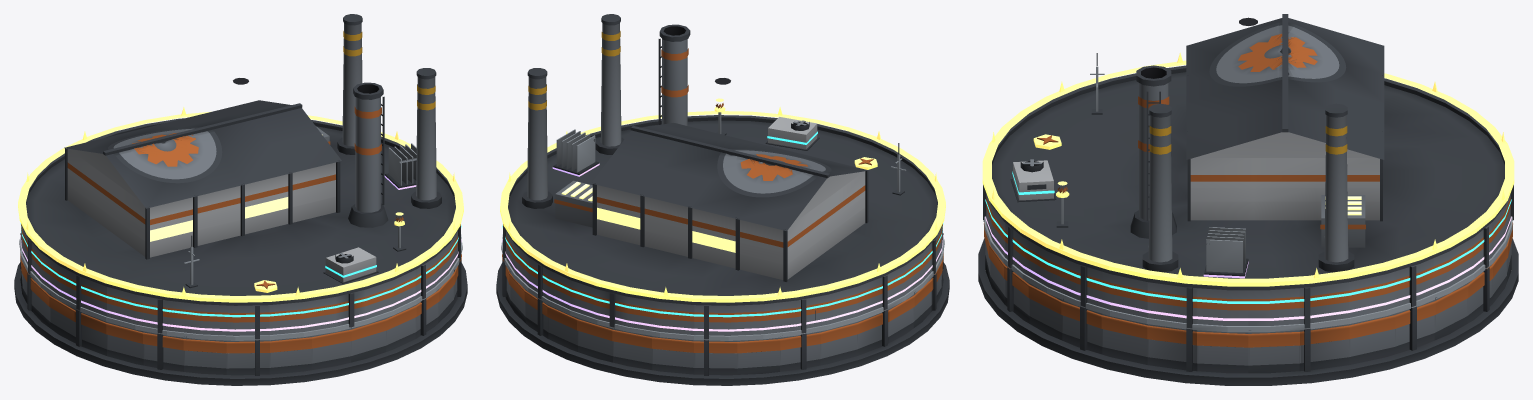
Rendered from refinery_m_far.glb.
The picture shows the model from 3 angles, left to right: view 1: azimuth 30°, elevation 25°; view 2: azimuth 150°, elevation 25°; view 3: azimuth 270°, elevation 25°; orthographic projection. The views are drawn at different scales.
Visible parts, largest first — view 1: Roof, Base, L5, L2, L3, L4; view 2: Roof, Base, L5, L2, L4, L3; view 3: Roof, Base, L5, L2, L4, L3.
Boxes of the visible parts, left/top/right/bottom form: Roof: left=21, top=14, right=460, bottom=339; Base: left=14, top=233, right=467, bottom=385; L5: left=18, top=107, right=463, bottom=302; L2: left=19, top=234, right=462, bottom=340; L3: left=20, top=223, right=461, bottom=317; L4: left=20, top=143, right=461, bottom=331; Roof: left=503, top=14, right=942, bottom=339; Base: left=496, top=233, right=949, bottom=385; L5: left=500, top=98, right=945, bottom=302; L2: left=501, top=143, right=944, bottom=340; L4: left=502, top=129, right=943, bottom=331; L3: left=502, top=117, right=943, bottom=317; Roof: left=983, top=14, right=1513, bottom=328; Base: left=978, top=220, right=1518, bottom=385; L5: left=982, top=52, right=1514, bottom=286; L2: left=984, top=53, right=1512, bottom=332; L4: left=985, top=216, right=1511, bottom=320; L3: left=985, top=159, right=1511, bottom=303.
Bounding box in the file's own units: 14.75 × 7.52 × 14.75.
